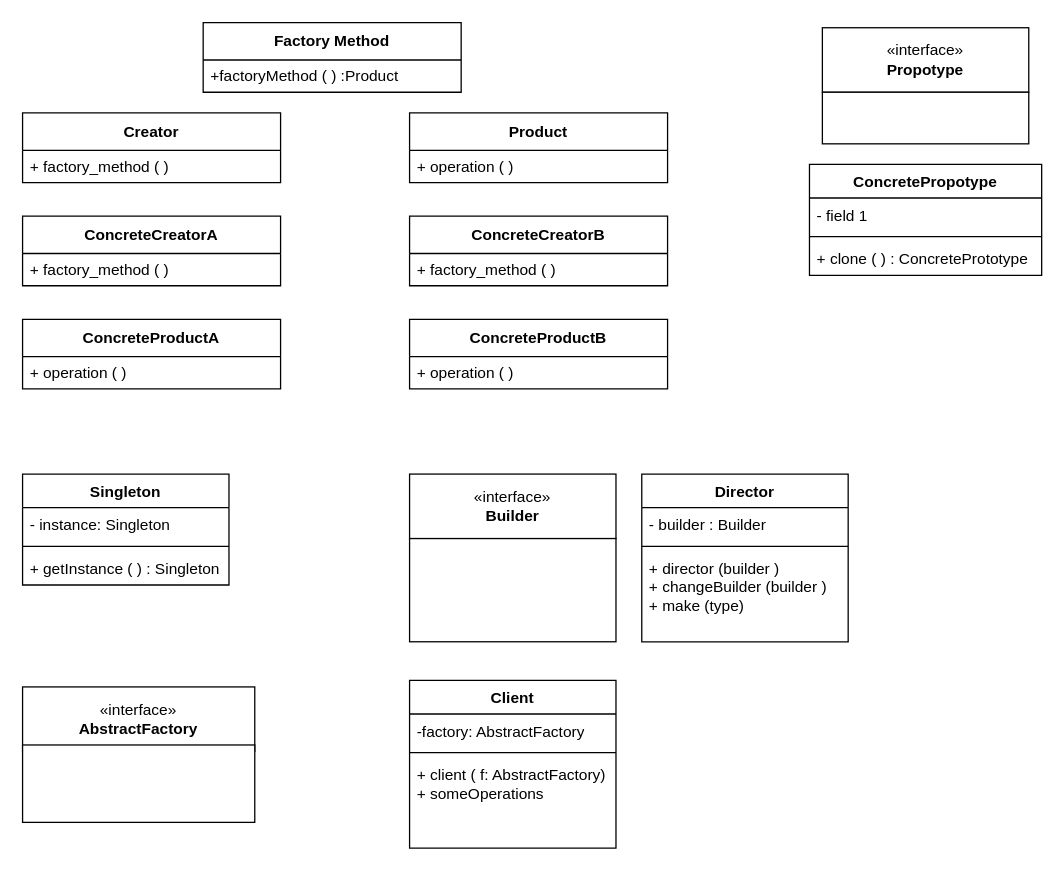
Some shapes in this 1064 by 875 pixel diagram are drawn without their labels. Here are the shapes that lost their labels. From the top down, the centre of each, then its label:
At (925,117): "+ clone : Propotype".
At (512,589): "+ reset ( ) + buildStepA ( ) + buildStepB ( ) +buildStepC ( )".
At (138,783): "+ createProductA ( ) :Product A + createProductB ( ) :Product B".
